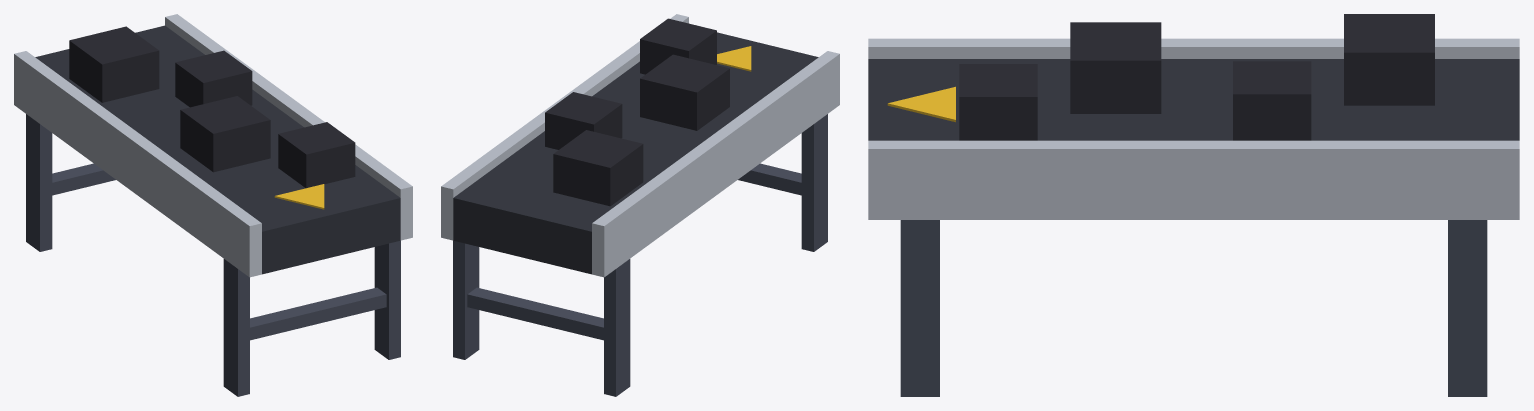
The model's file is coal-conveyor-straight.glb.
The picture shows the model from 3 angles, left to right: view 1: azimuth 30°, elevation 25°; view 2: azimuth 150°, elevation 25°; view 3: azimuth 270°, elevation 25°; orthographic projection. The views are drawn at different scales.
Visible parts, largest first — view 1: coal-conveyor-straight; view 2: coal-conveyor-straight; view 3: coal-conveyor-straight.
Part boxes in pixels (box(x1,y1,x2,y2)): coal-conveyor-straight: box(14, 14, 412, 396); coal-conveyor-straight: box(441, 14, 839, 396); coal-conveyor-straight: box(868, 14, 1519, 396).
Bounding box in the file's own units: 0.4 × 0.49 × 1.
Materials: 1 (1 with a texture image).
